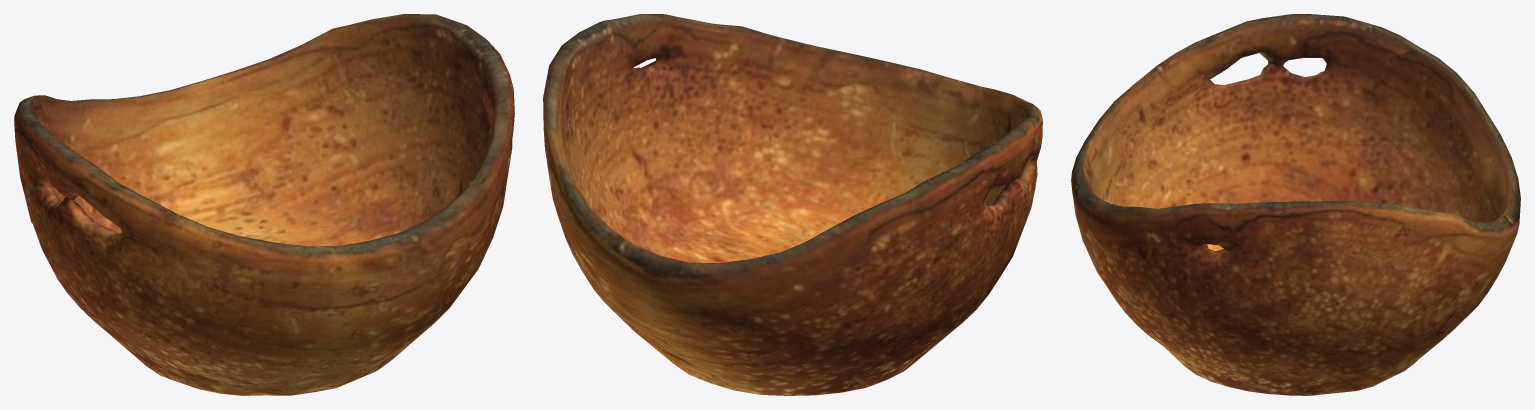
File: wooden_bowl_02.glb
The picture shows the model from 3 angles, left to right: view 1: azimuth 30°, elevation 25°; view 2: azimuth 150°, elevation 25°; view 3: azimuth 270°, elevation 25°; orthographic projection. The views are drawn at different scales.
Parts seen in each view (by area): view 1: wooden_bowl_02; view 2: wooden_bowl_02; view 3: wooden_bowl_02.
Boxes of the visible parts, bbox=[...] form: wooden_bowl_02: bbox=[14, 14, 514, 395]; wooden_bowl_02: bbox=[543, 14, 1042, 395]; wooden_bowl_02: bbox=[1071, 14, 1520, 395].
Bounding box in the file's own units: 0.1307 × 0.0731 × 0.1245.
Materials: 1 (1 with a texture image).
